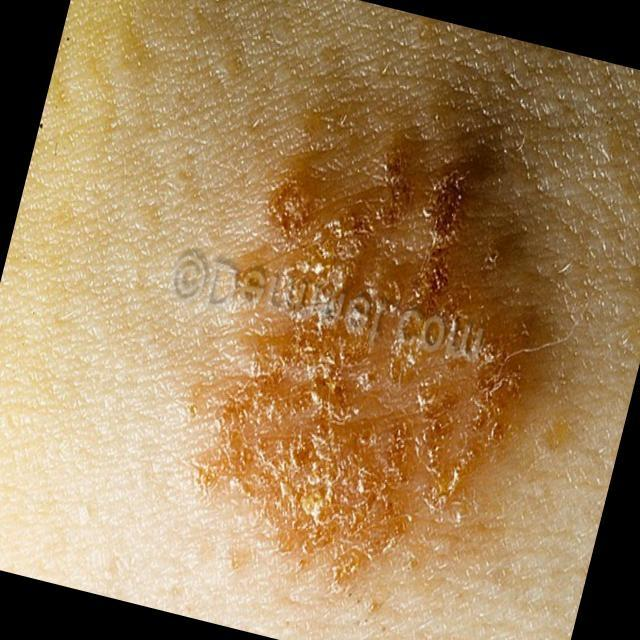Eczema: (186, 71, 546, 581)
